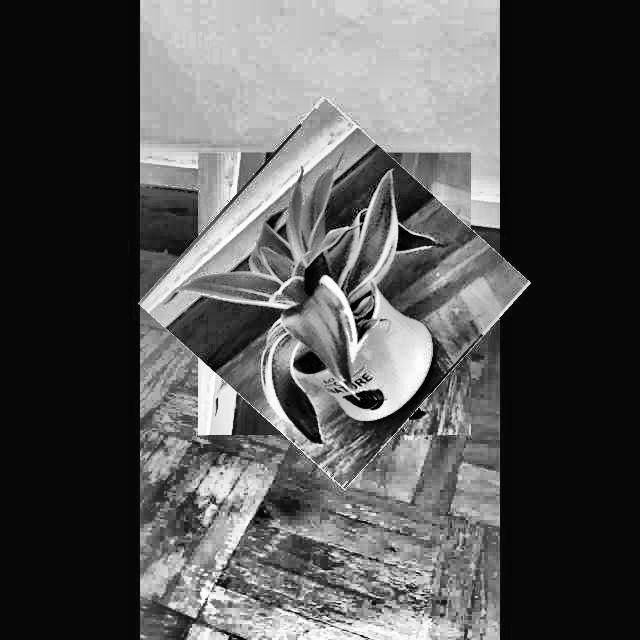plants: (167, 126, 502, 461)
